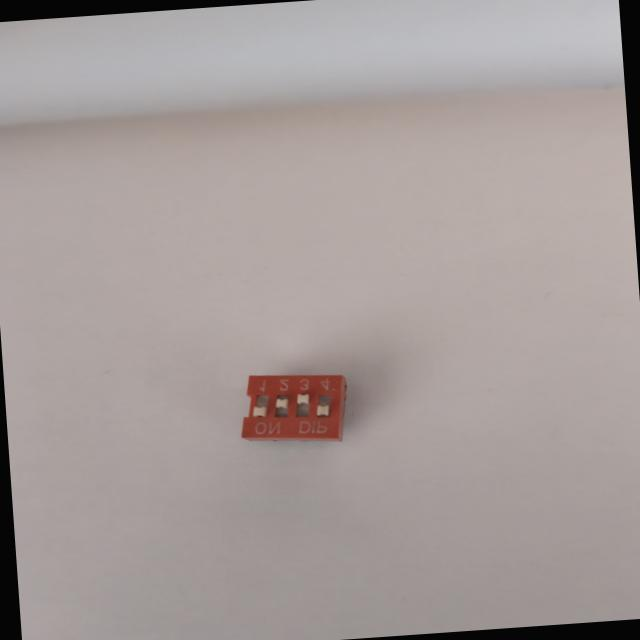switch: (226, 364, 366, 458)
